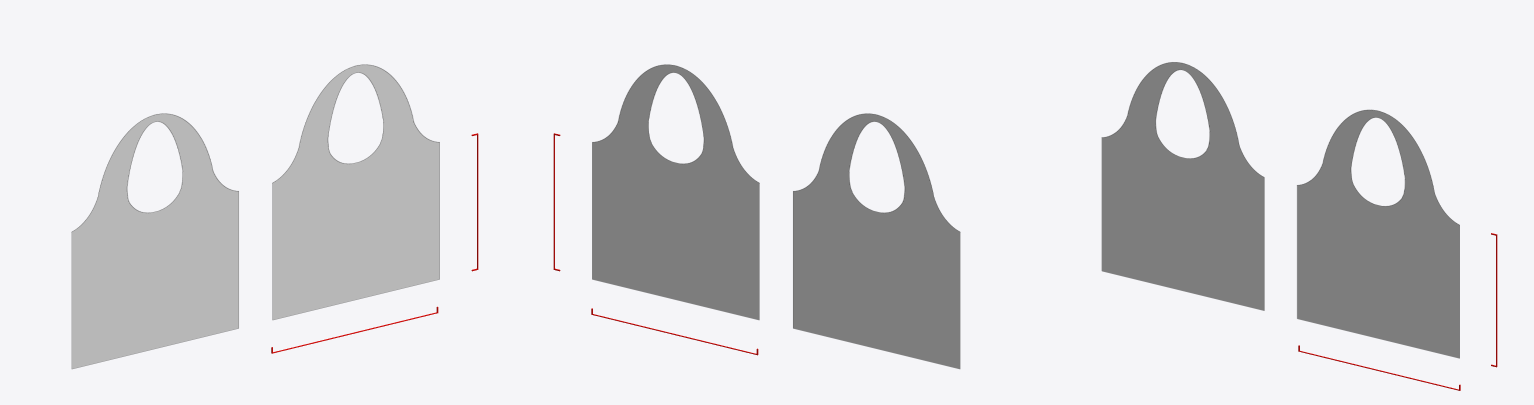
The model's file is 帆布袋-背心袋.glb.
3 views of the same model, side by side, from view 1: azimuth 30°, elevation 25°; view 2: azimuth 150°, elevation 25°; view 3: azimuth 330°, elevation 25° (orthographic). The views are drawn at different scales.
Visible parts, largest first — view 1: bag; view 2: bag; view 3: bag.
Boxes of the visible parts, left/top/right/bottom form: bag: left=71, top=64, right=439, bottom=368; bag: left=592, top=64, right=960, bottom=368; bag: left=1101, top=62, right=1459, bottom=358.
Bounding box in the file's own units: 0.8717 × 0.4863 × 0.00545.
2 materials, 1 textured.
